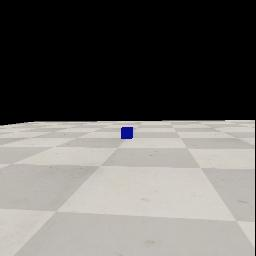box: (121, 127, 133, 139)
